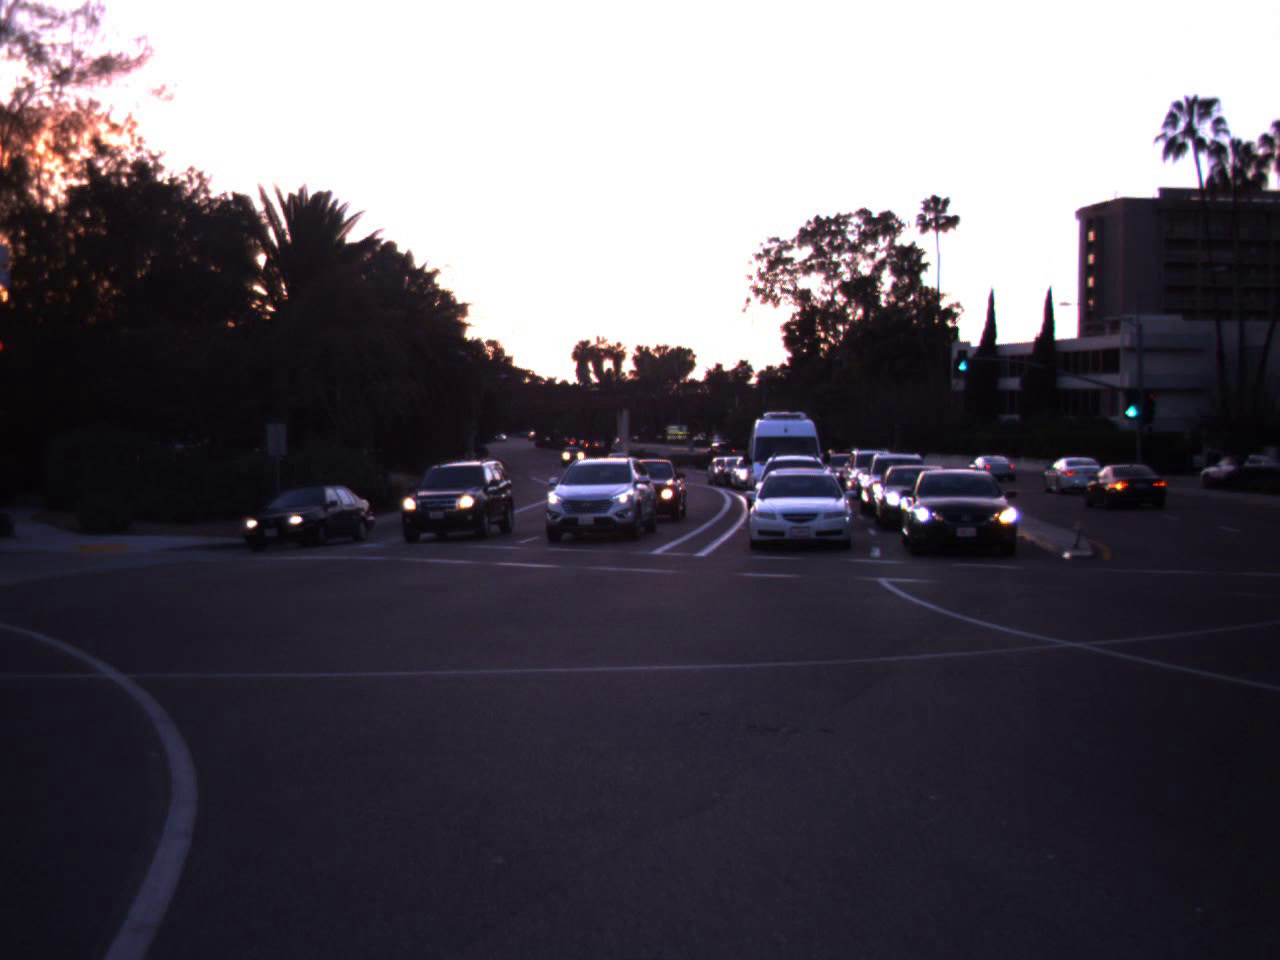go: (1110, 359, 1152, 424), (947, 325, 977, 375)
